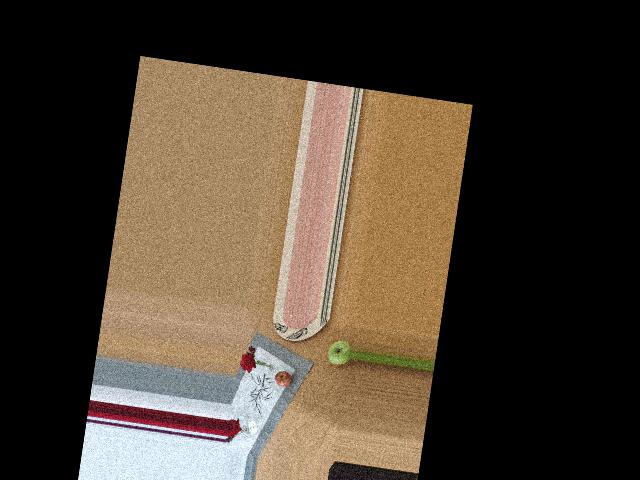apple: (325, 337, 353, 367)
